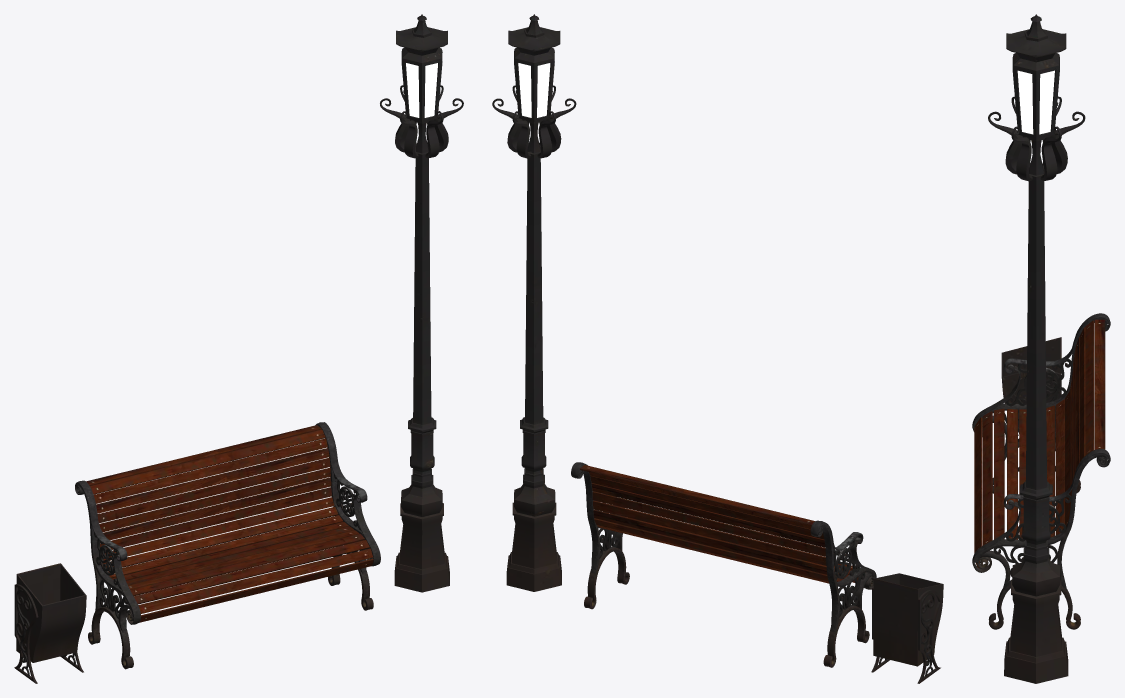
Rendered from forged_street_pack.glb.
3 renders of one model, left to right at view 1: azimuth 30°, elevation 25°; view 2: azimuth 150°, elevation 25°; view 3: azimuth 270°, elevation 25°, orthographic. The views are drawn at different scales.
Visible parts, largest first — view 1: Lamp; view 2: Lamp; view 3: Lamp.
Boxes of the visible parts, left/top/right/bottom form: Lamp: left=14, top=14, right=463, bottom=683; Lamp: left=492, top=14, right=943, bottom=683; Lamp: left=972, top=14, right=1110, bottom=683.
Bounding box in the file's own units: 3.26 × 4.12 × 0.7886.
2 materials, 1 textured.
